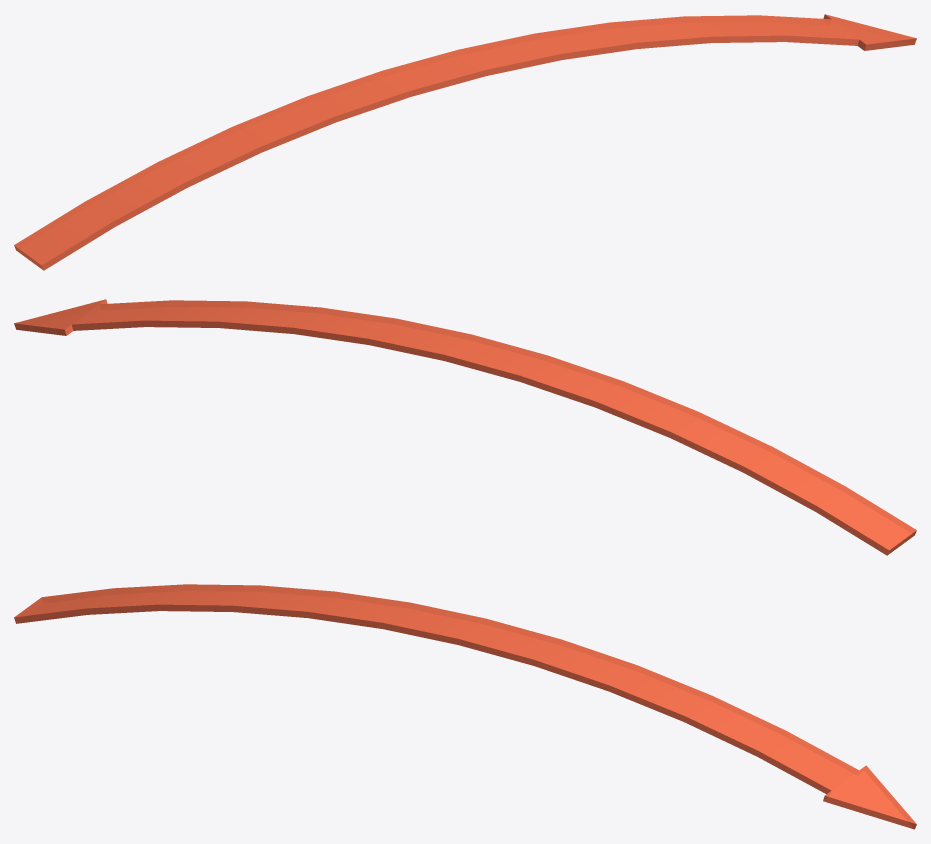
The model's file is redArrow1.glb.
3 renders of one model, top to bottom at view 1: azimuth 30°, elevation 25°; view 2: azimuth 150°, elevation 25°; view 3: azimuth 330°, elevation 25°, orthographic.
Visible parts, largest first — view 1: Material2; view 2: Material2; view 3: Material2.
Boxes of the visible parts, x1,y1,x2,y2 form: Material2: (14,14,916,270); Material2: (14,299,916,555); Material2: (14,584,916,829).
Bounding box in the file's own units: 22.42 × 2.24 × 1.81.
